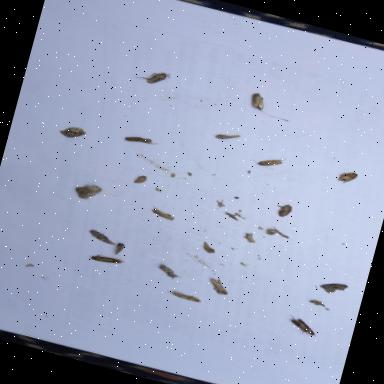pbw: (248, 150, 286, 174), (132, 65, 170, 88), (284, 314, 320, 338), (72, 180, 101, 203), (122, 132, 158, 150), (318, 278, 350, 298), (90, 252, 124, 270), (168, 290, 204, 304), (156, 264, 184, 282), (58, 124, 86, 142), (206, 276, 231, 296), (88, 230, 118, 246), (213, 128, 242, 144), (247, 92, 268, 112), (150, 206, 176, 222), (336, 169, 358, 187), (274, 202, 294, 220), (112, 242, 126, 258), (134, 173, 148, 186)
